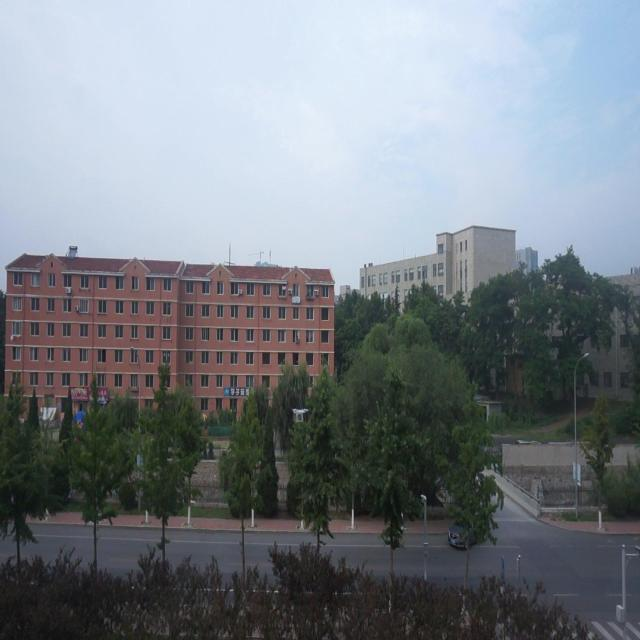drone: (291, 404, 309, 426)
